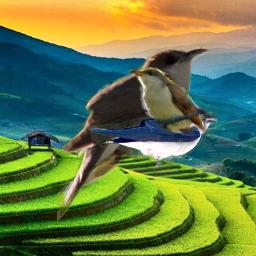Cuckoo: (57, 45, 209, 226), (126, 61, 217, 136)
Swallow: (88, 106, 218, 170)
